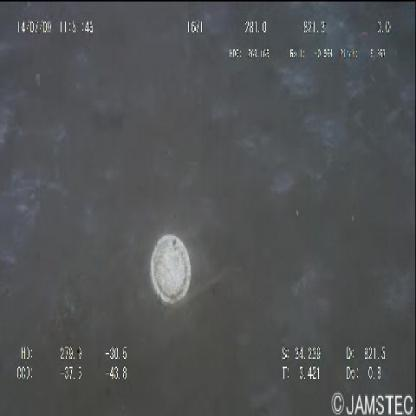Rác: (151, 234, 193, 308)
